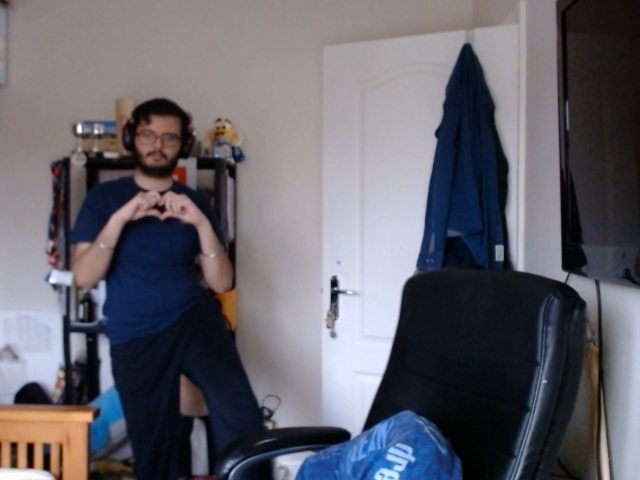Heart: (133, 189, 189, 228)
